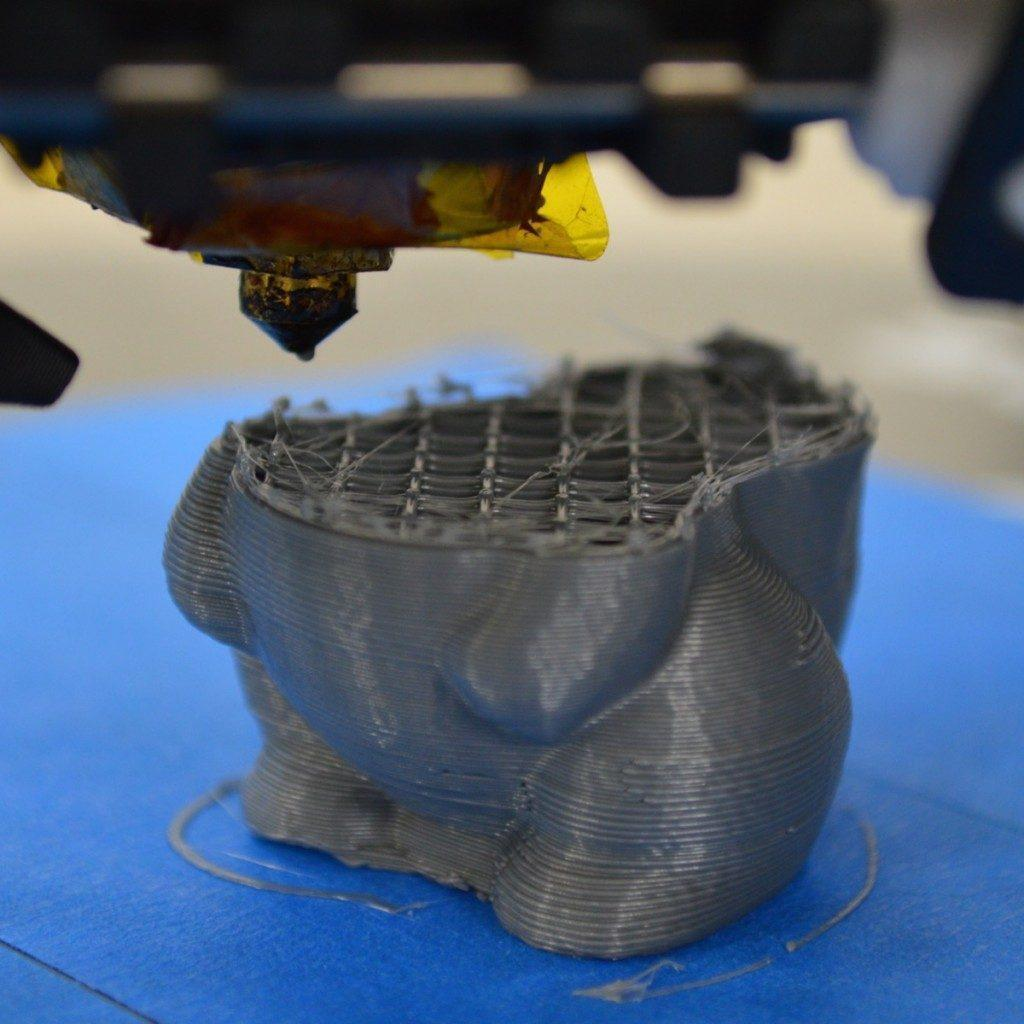Layer Shifting: (155, 451, 849, 969)
Spaghetti: (132, 444, 891, 958)
